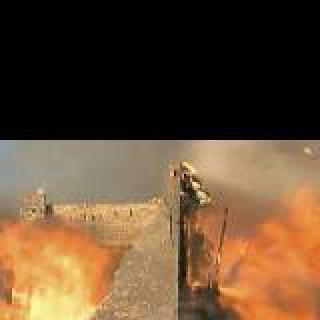fire: (0, 204, 318, 320)
